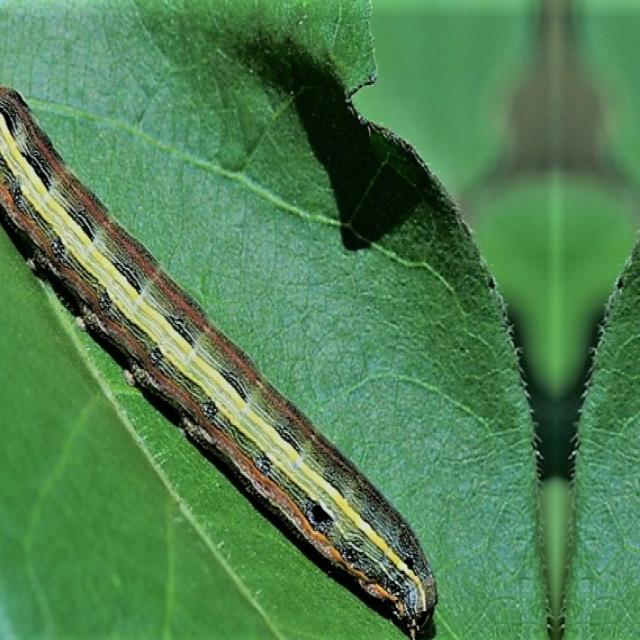Armyworm: (4, 37, 463, 640)
